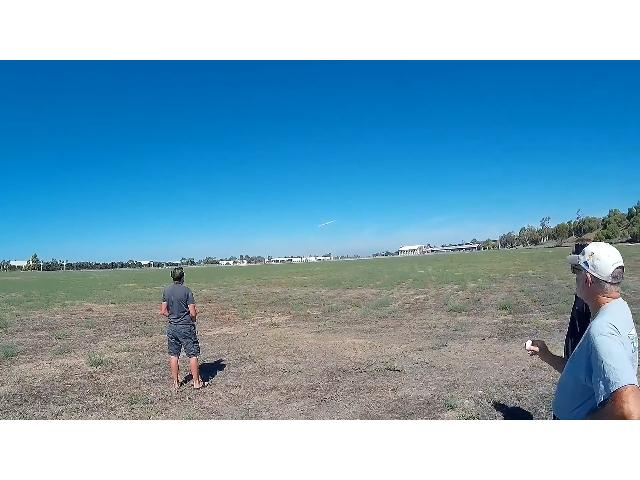Anti-Drone: (317, 220, 335, 226)
